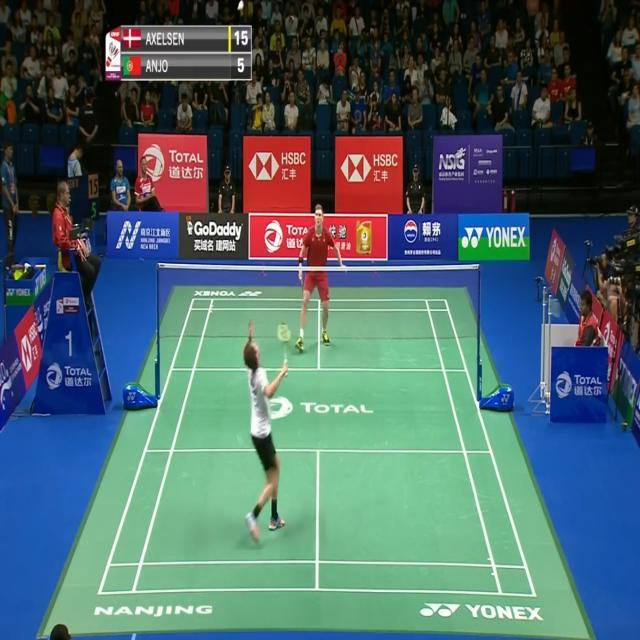Player1: (233, 313, 293, 549)
Player2: (292, 202, 348, 357)
